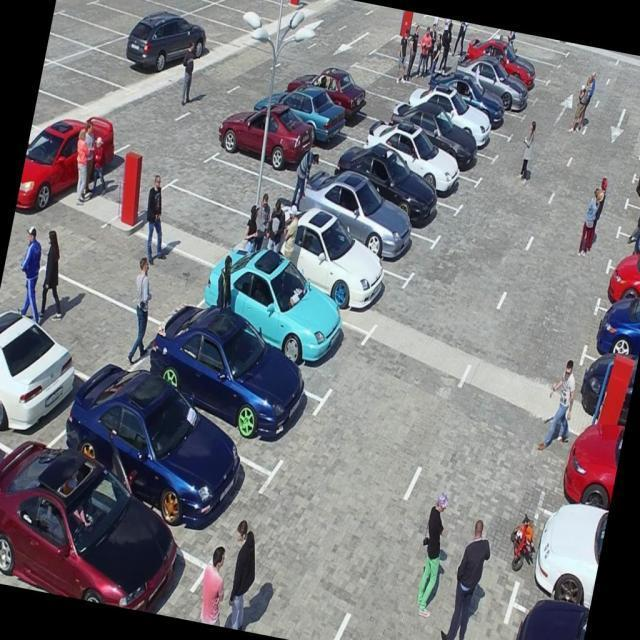car: (68, 358, 262, 544), (0, 433, 194, 615), (160, 310, 306, 469), (212, 250, 350, 391), (261, 204, 399, 322), (304, 162, 428, 276), (345, 149, 453, 245), (0, 321, 88, 428), (517, 511, 606, 610), (374, 130, 474, 210), (404, 92, 506, 163), (389, 114, 492, 184), (423, 72, 521, 140), (230, 118, 318, 184), (548, 443, 620, 519), (570, 354, 638, 430), (450, 62, 534, 120), (267, 102, 345, 160), (298, 90, 372, 146), (467, 50, 548, 100), (491, 602, 588, 640), (113, 30, 182, 81), (586, 304, 640, 364), (145, 22, 216, 64), (603, 266, 639, 306), (613, 231, 639, 261), (620, 204, 640, 243), (628, 177, 640, 211)
free: (20, 272, 152, 377), (71, 230, 207, 326), (149, 177, 252, 258), (197, 152, 289, 224), (36, 56, 120, 116), (75, 42, 151, 100), (475, 41, 559, 84), (48, 5, 114, 58), (365, 48, 443, 91), (78, 0, 150, 43), (331, 78, 394, 124), (353, 64, 421, 106), (390, 37, 460, 77), (492, 29, 570, 64), (204, 0, 272, 39), (183, 12, 244, 50), (408, 26, 476, 56), (424, 15, 492, 44), (106, 0, 176, 24), (229, 0, 293, 24), (140, 0, 212, 20), (246, 0, 314, 12), (160, 0, 227, 9)
